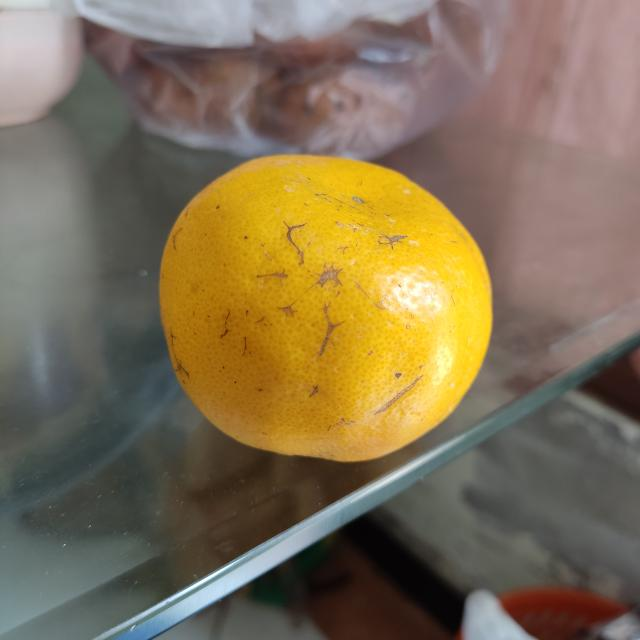orange: (157, 155, 497, 465)
